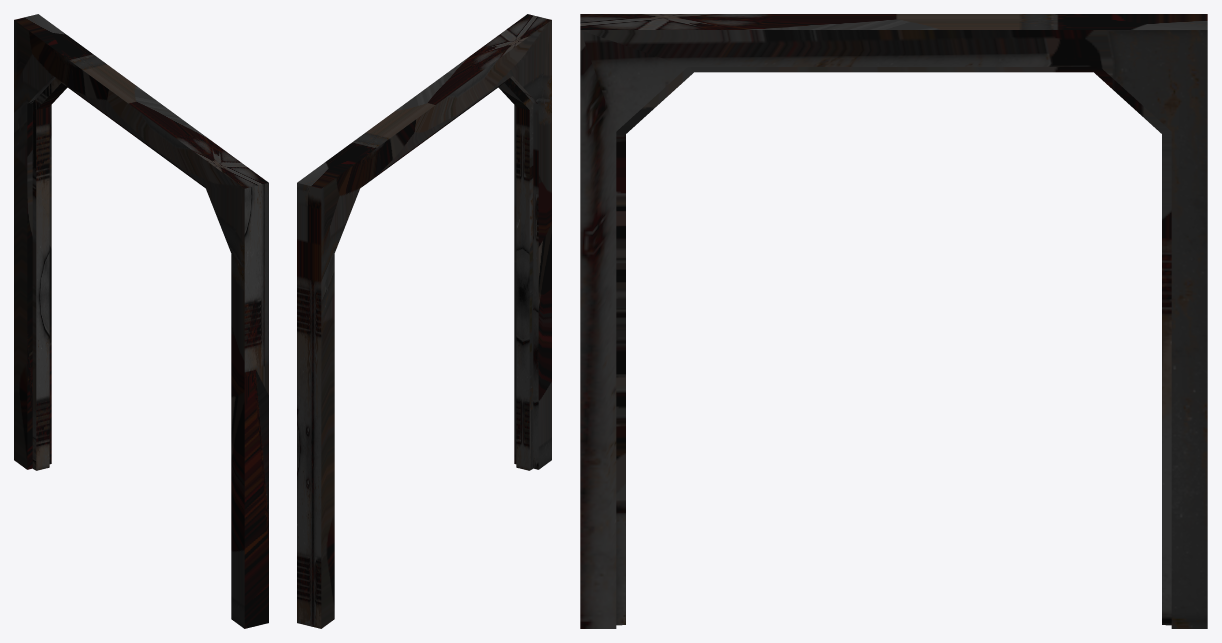
File: doorframe.fbx
3 views of the same model, side by side, from view 1: azimuth 30°, elevation 25°; view 2: azimuth 150°, elevation 25°; view 3: azimuth 270°, elevation 25° (orthographic). The views are drawn at different scales.
Visible parts, largest first — view 1: 12.002; view 2: 12.002; view 3: 12.002.
Boxes of the visible parts, x1,y1,x2,y2 form: 12.002: (14,14,268,628); 12.002: (297,14,551,628); 12.002: (580,14,1207,628).
Size of the model in its own units: 11.05 by 191 by 181.
